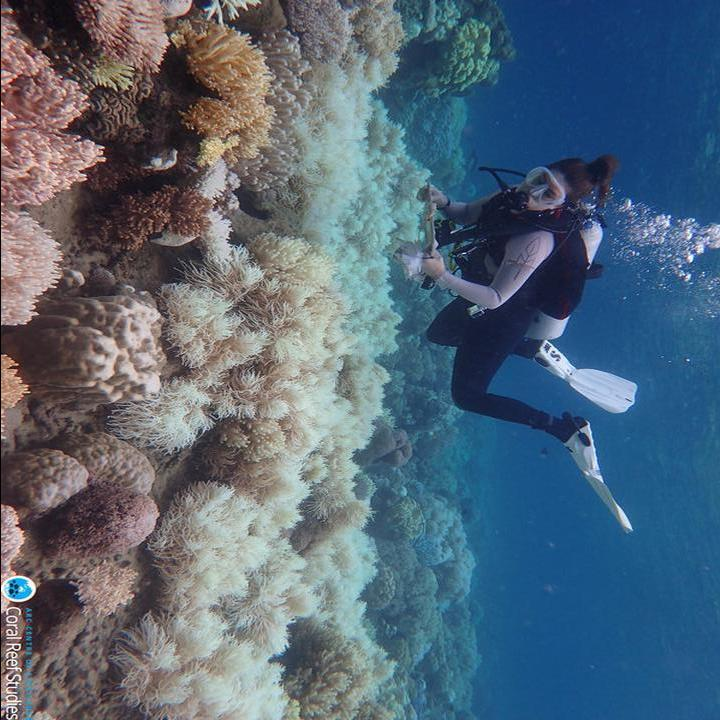Bleached disease: (165, 78, 425, 719)
